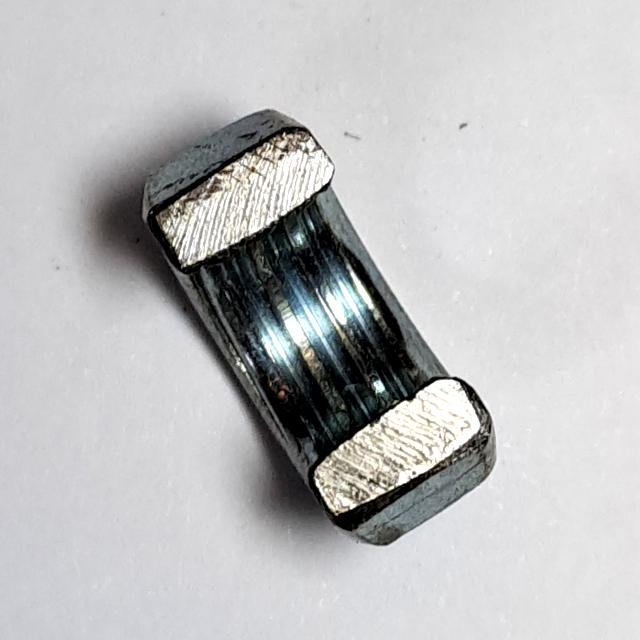Side-Fracture: (126, 96, 510, 564)
